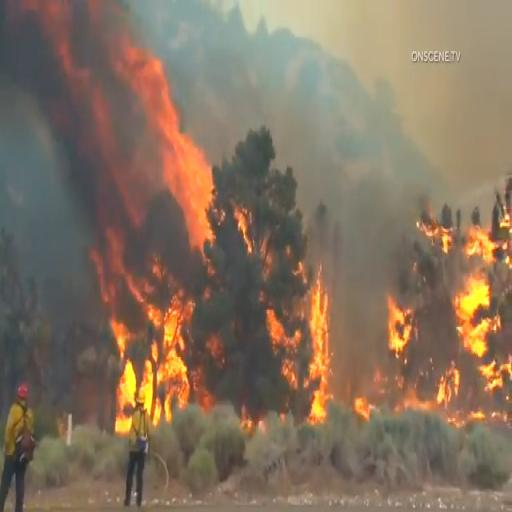fire: (284, 279, 340, 424), (122, 301, 190, 374), (458, 277, 498, 373)
smoke: (14, 0, 134, 71)
